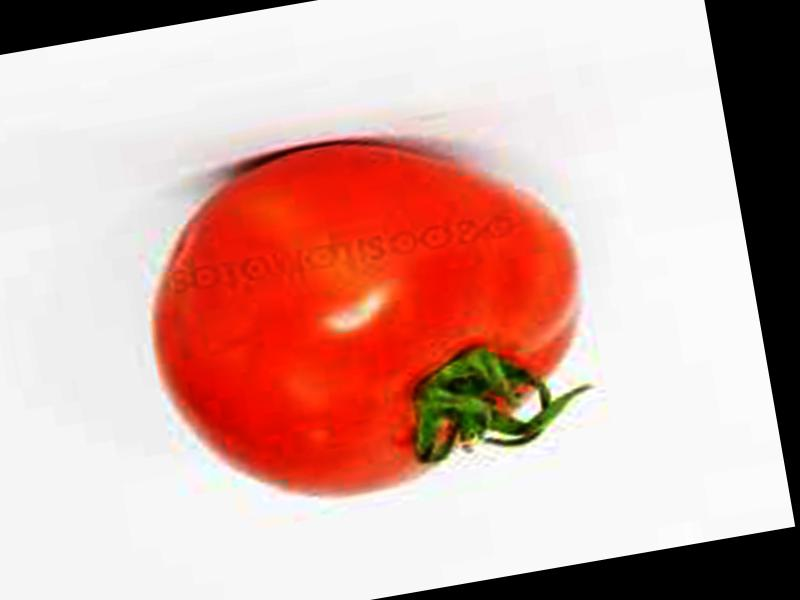Tomato: (127, 106, 609, 528)
